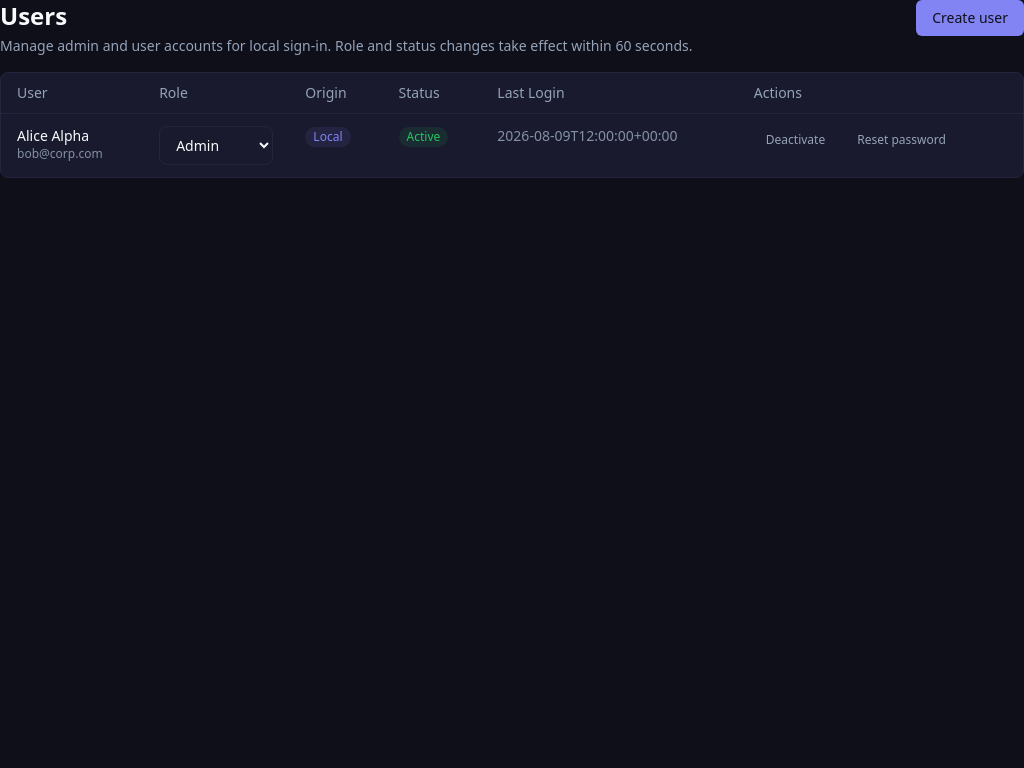
AdminUsersPage — SCIM-owned 409 inline error › a scim-owned-user 409 on reset-password renders inline in the dialog, dialog stays open
Expected: the text "bob@corp.com" is shown, [17,145,103,162]
Click the button "Reset password". click: point(902, 140)
box: [845,126,958,154]
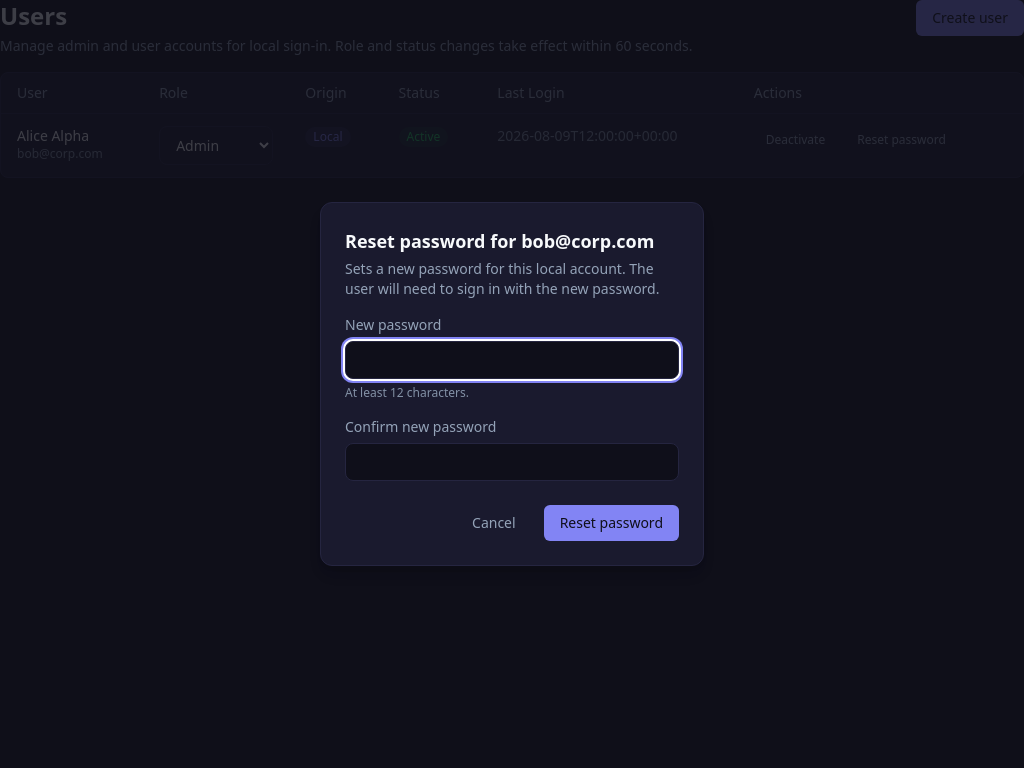
Type "a-very-long-password" into the password field labelled "New password". click: point(512, 360)
box: [345,341,679,379]
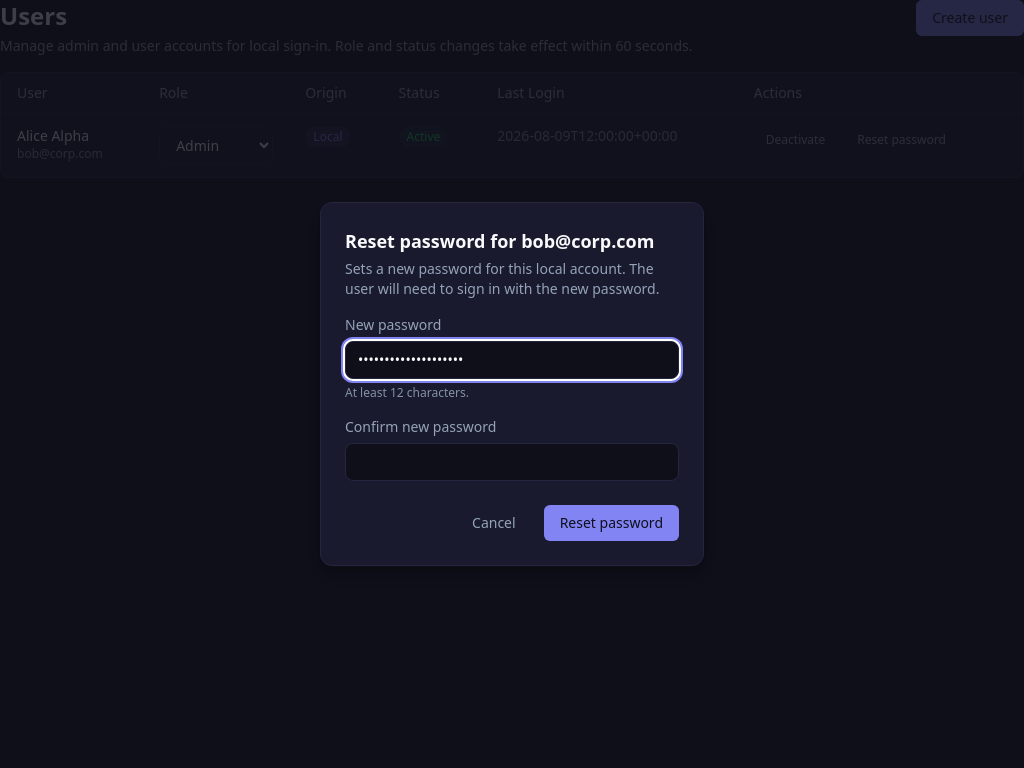
Type "a-very-long-password" into the password field labelled "Confirm new password". click: point(512, 462)
box: [345,443,679,481]
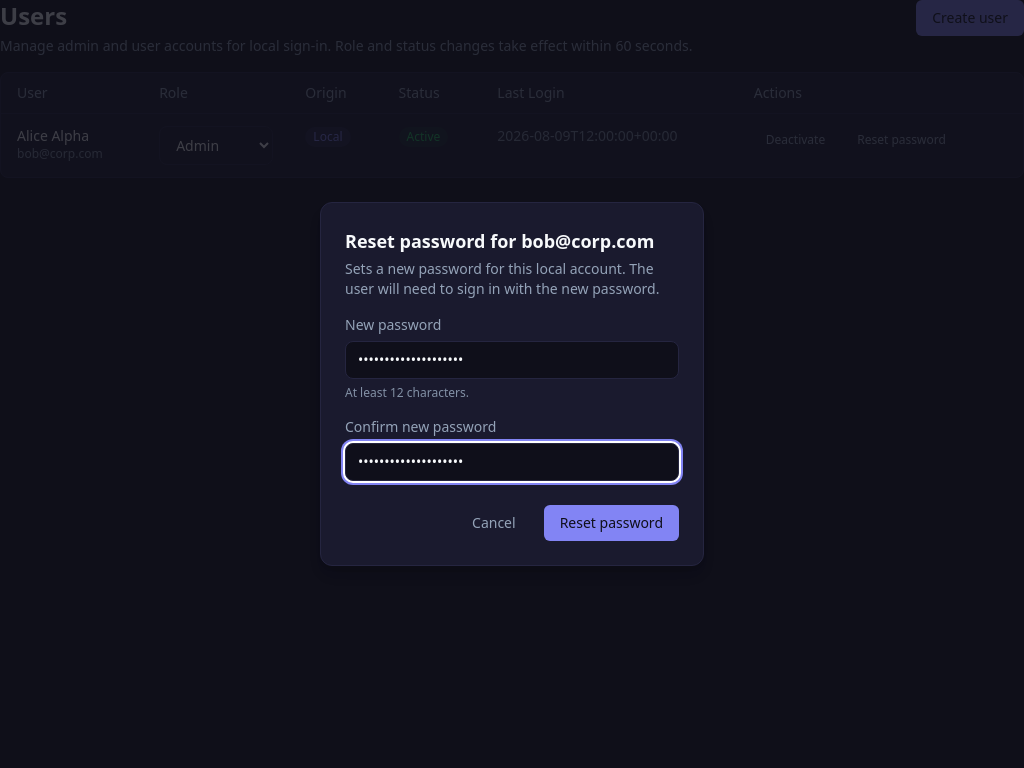
Click the button "Reset password". click: point(611, 523)
box: [544,505,679,541]
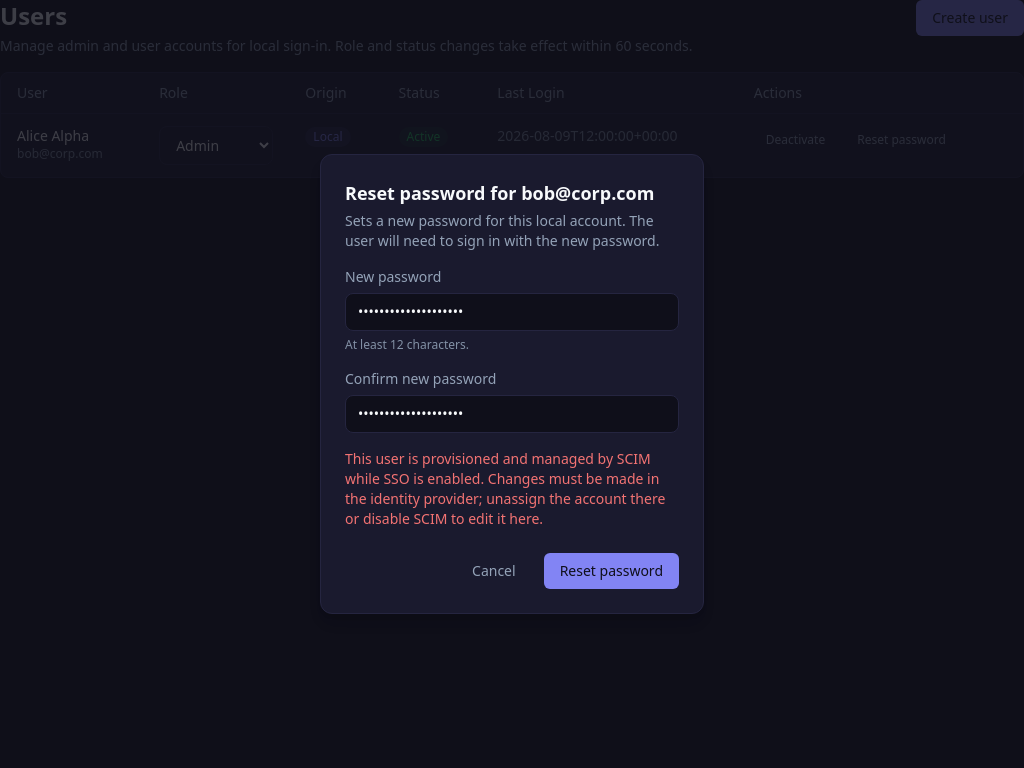
Now the dialog is shown, box [320,154,704,614]
Now the text "provisioned and managed by SCIM" is shown, box [345,449,665,528]
